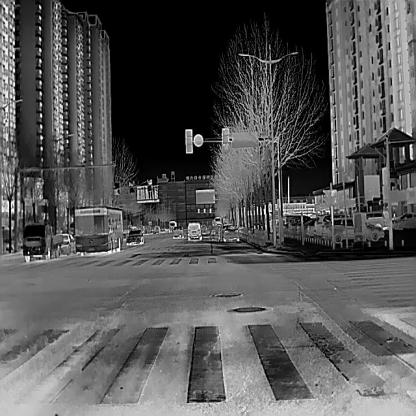bus: (73, 205, 123, 255), (213, 215, 221, 230), (168, 220, 177, 233)
car: (327, 217, 383, 243), (312, 213, 354, 240), (322, 219, 364, 242), (288, 218, 324, 237), (295, 218, 323, 239), (284, 214, 312, 235), (354, 210, 386, 228), (52, 233, 76, 256), (390, 212, 416, 229), (219, 223, 240, 242), (306, 217, 326, 236), (126, 228, 144, 245), (187, 222, 202, 240), (172, 226, 183, 239), (153, 225, 160, 233)
truck: (21, 221, 63, 262)
